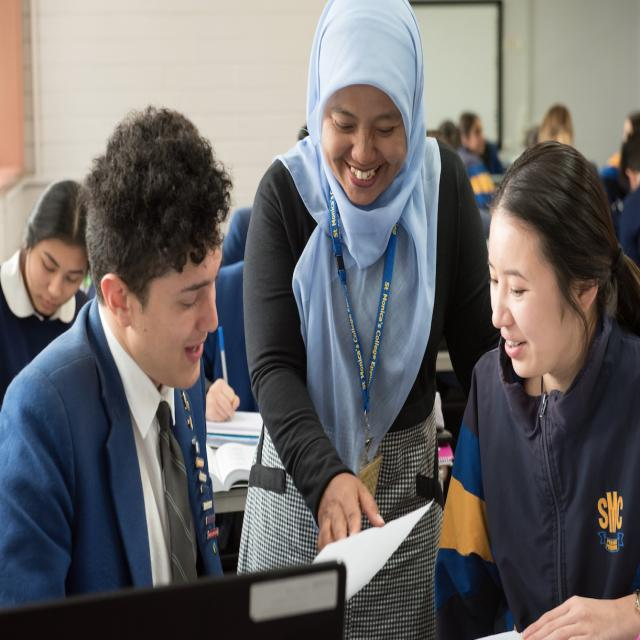body: (234, 0, 504, 639), (0, 102, 246, 610), (430, 140, 640, 638), (0, 177, 94, 409), (522, 99, 640, 255), (206, 200, 252, 420), (438, 121, 497, 209), (456, 110, 506, 176), (296, 124, 310, 144)
